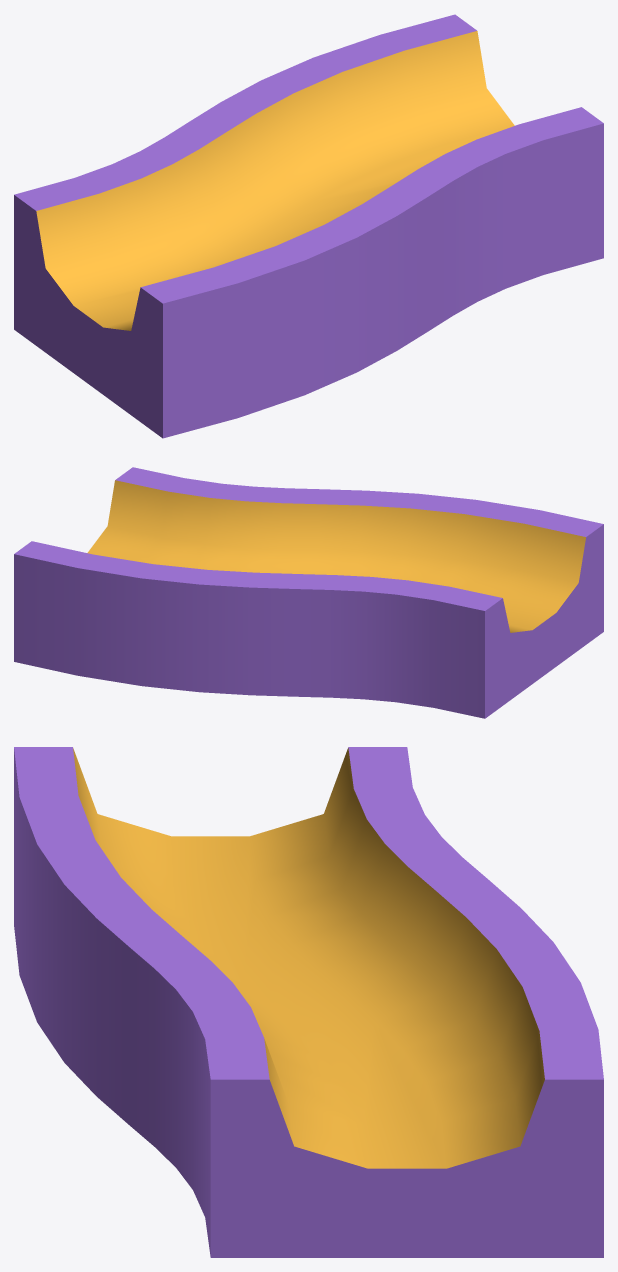
Rendered from s-curve-short-left-b-col.glb.
3 renders of one model, top to bottom at view 1: azimuth 30°, elevation 25°; view 2: azimuth 150°, elevation 25°; view 3: azimuth 270°, elevation 25°, orthographic. The views are drawn at different scales.
Visible parts, largest first — view 1: s-curve-short-left-b-col; view 2: s-curve-short-left-b-col; view 3: s-curve-short-left-b-col.
Part boxes in pixels (bbox=[...]): s-curve-short-left-b-col: bbox=[14, 14, 603, 438]; s-curve-short-left-b-col: bbox=[14, 467, 603, 718]; s-curve-short-left-b-col: bbox=[14, 747, 603, 1257].
Bounding box in the file's own units: 2 × 0.5 × 1.5.
1 material, 1 textured.
